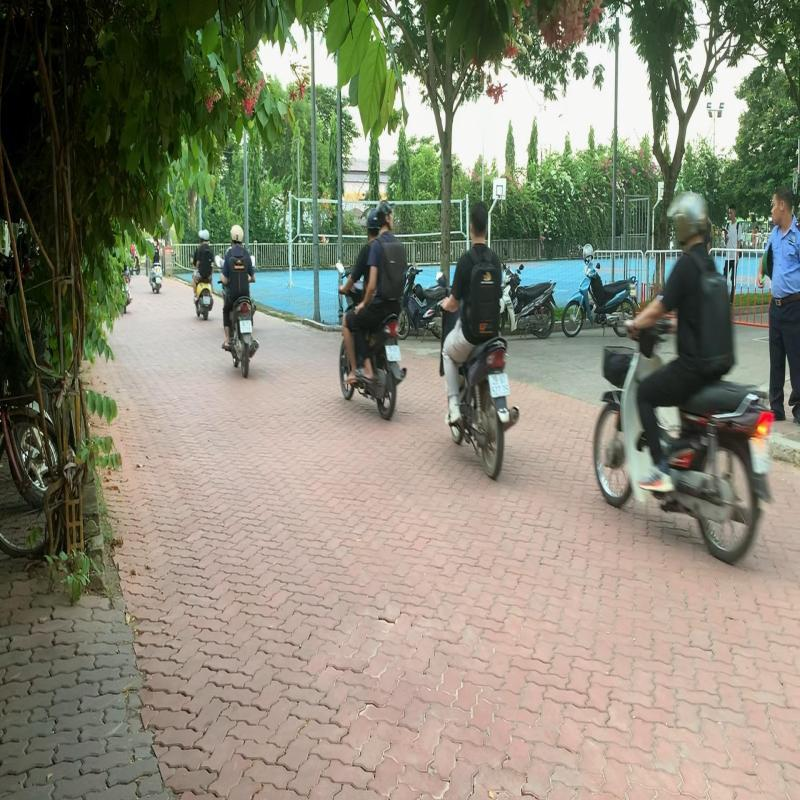nohelmet: (468, 197, 490, 246)
